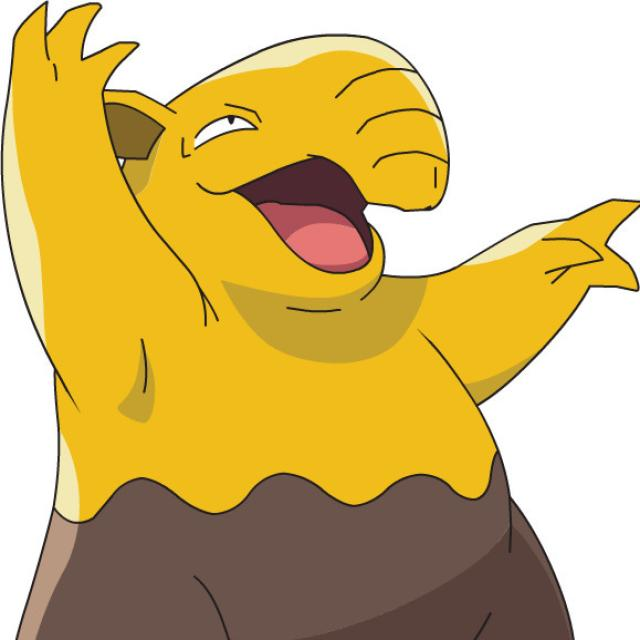Drowzee: (4, 12, 574, 640)
